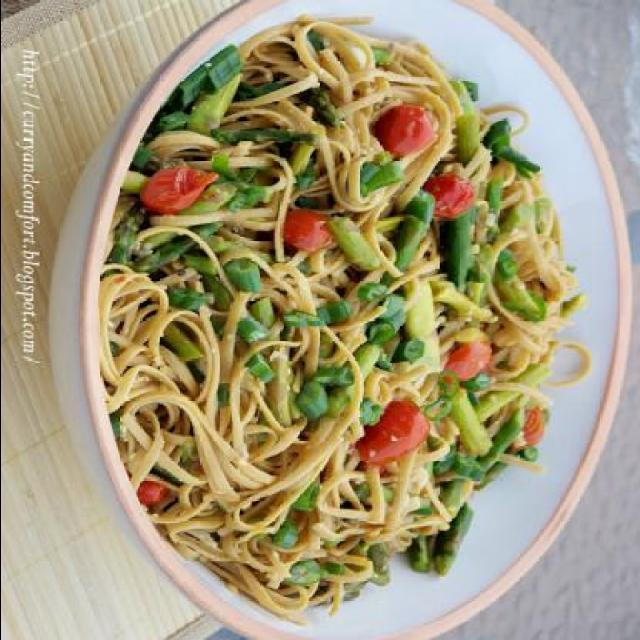Oil pasta: (73, 34, 601, 620)
